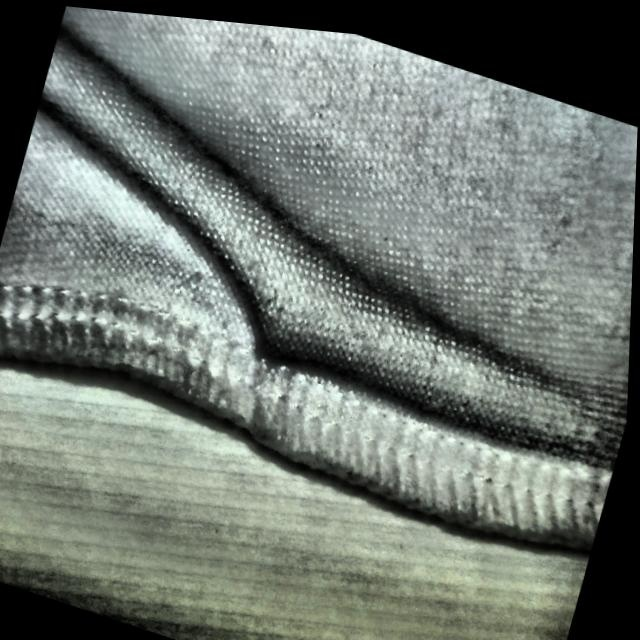seam: (147, 197, 436, 503)
